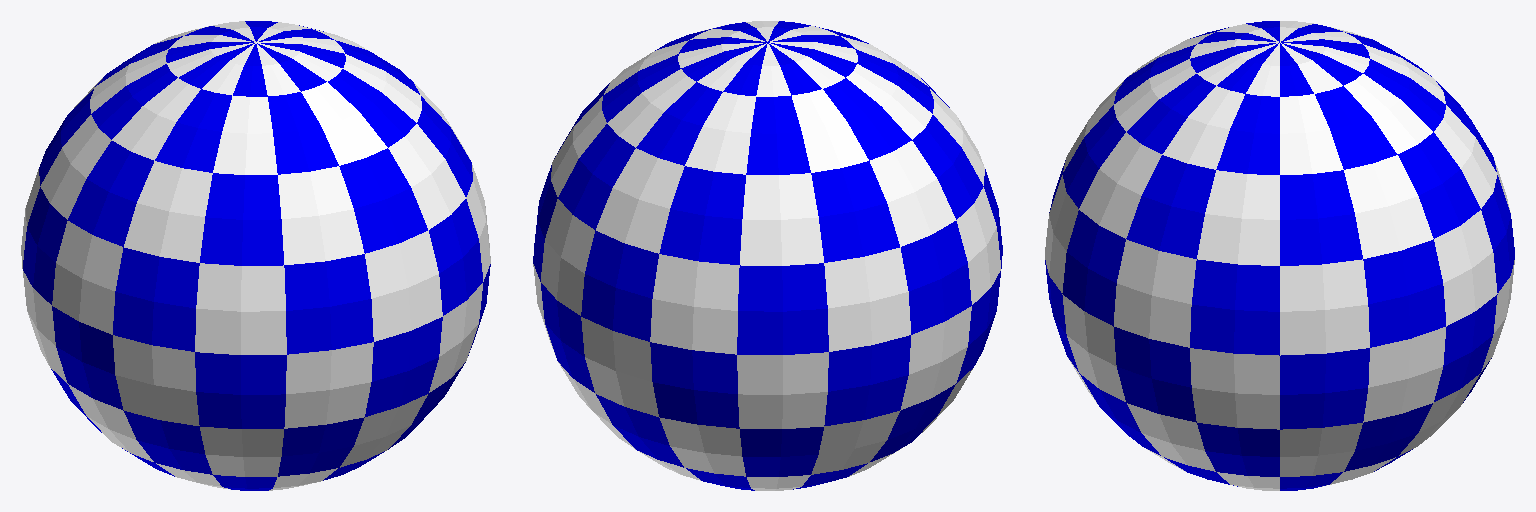
Rendered from blueball.obj.
The picture shows the model from 3 angles: view 1: azimuth 30°, elevation 25°; view 2: azimuth 150°, elevation 25°; view 3: azimuth 270°, elevation 25°; orthographic projection.
Visible parts, largest first — view 1: sphere2; view 2: sphere2; view 3: sphere2.
Boxes of the visible parts, box(x1,y1,x2,y2) form: sphere2: box(21, 21, 490, 490); sphere2: box(533, 21, 1002, 490); sphere2: box(1045, 21, 1514, 490).
Bounding box in the file's own units: 2 × 2 × 2.